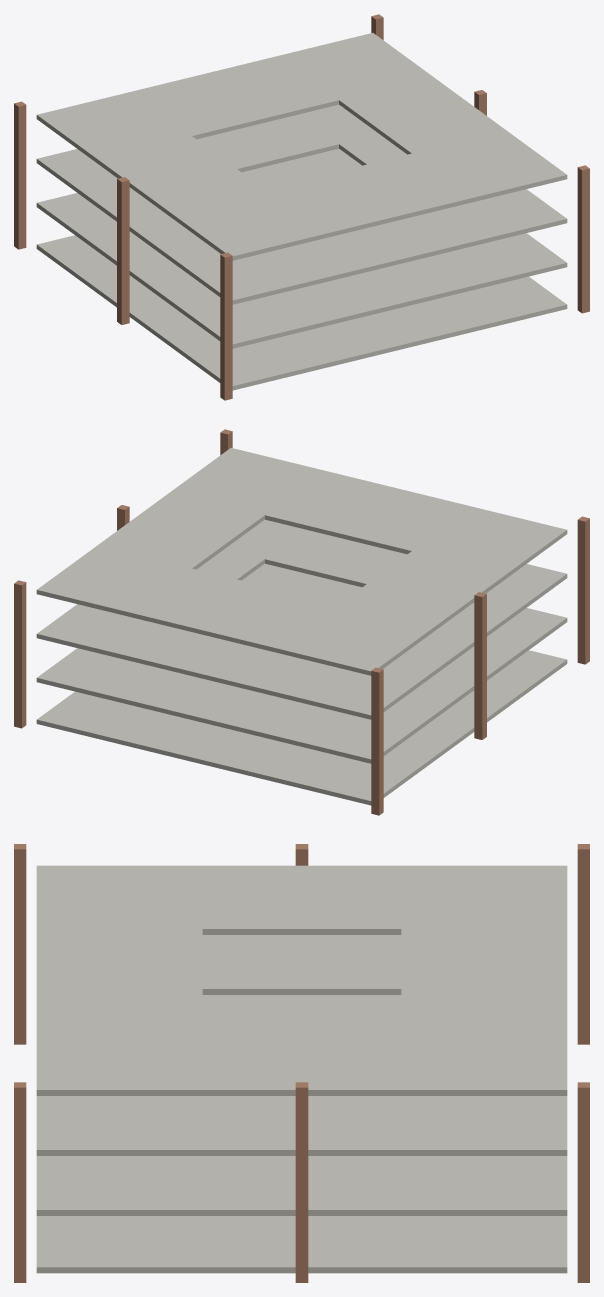
Rendered from urban-0-0.glb.
3 renders of one model, top to bottom at view 1: azimuth 30°, elevation 25°; view 2: azimuth 150°, elevation 25°; view 3: azimuth 270°, elevation 25°, orthographic. The views are drawn at different scales.
Parts seen in each view (by area): view 1: urban-0-0; view 2: urban-0-0; view 3: urban-0-0.
Boxes of the visible parts, left/top/right/bottom form: urban-0-0: left=14, top=14, right=589, bottom=400; urban-0-0: left=14, top=429, right=589, bottom=815; urban-0-0: left=14, top=844, right=589, bottom=1282.
Size of the model in its own units: 69.5 by 26 by 69.5.
